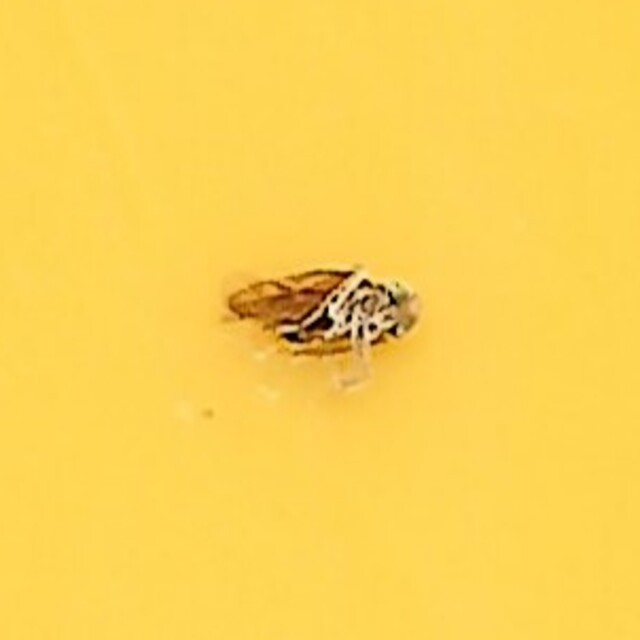Hemiptera: (212, 256, 428, 384)
